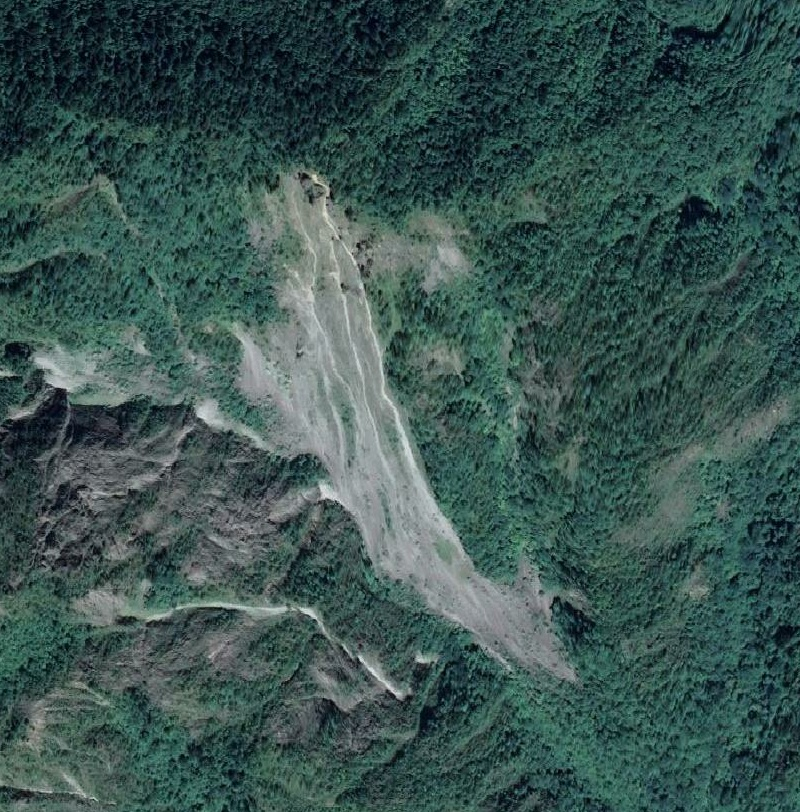slope: (220, 157, 579, 690)
